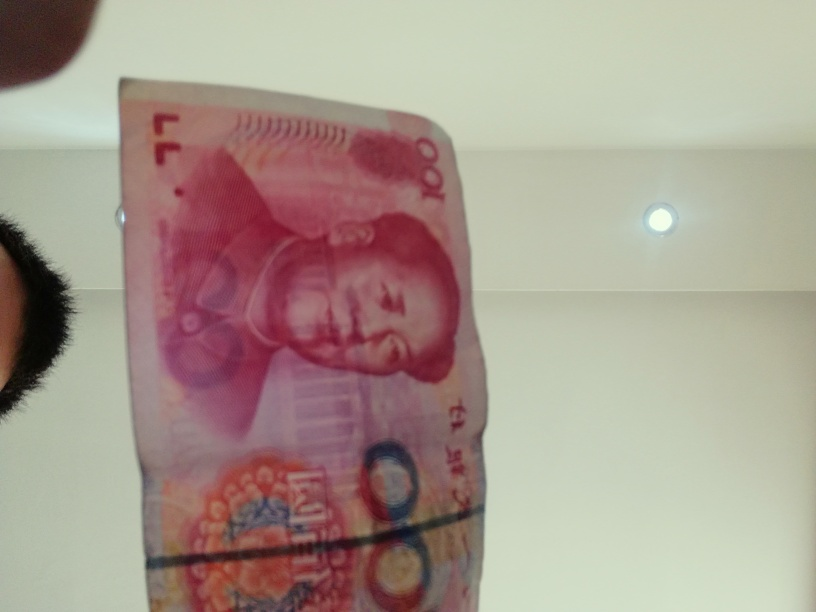rmb: (107, 69, 495, 612)
